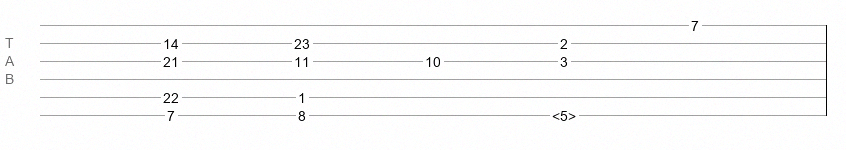1: (298, 90, 306, 100)
10: (425, 54, 441, 64)
11: (294, 54, 310, 64)
14: (163, 36, 179, 46)
2: (560, 36, 568, 46)
21: (163, 54, 179, 64)
22: (163, 90, 179, 100)
23: (294, 36, 310, 46)
3: (560, 54, 568, 64)
7: (167, 108, 175, 118), (691, 18, 699, 28)
8: (298, 108, 306, 118)
harmonic: (552, 108, 576, 118)
